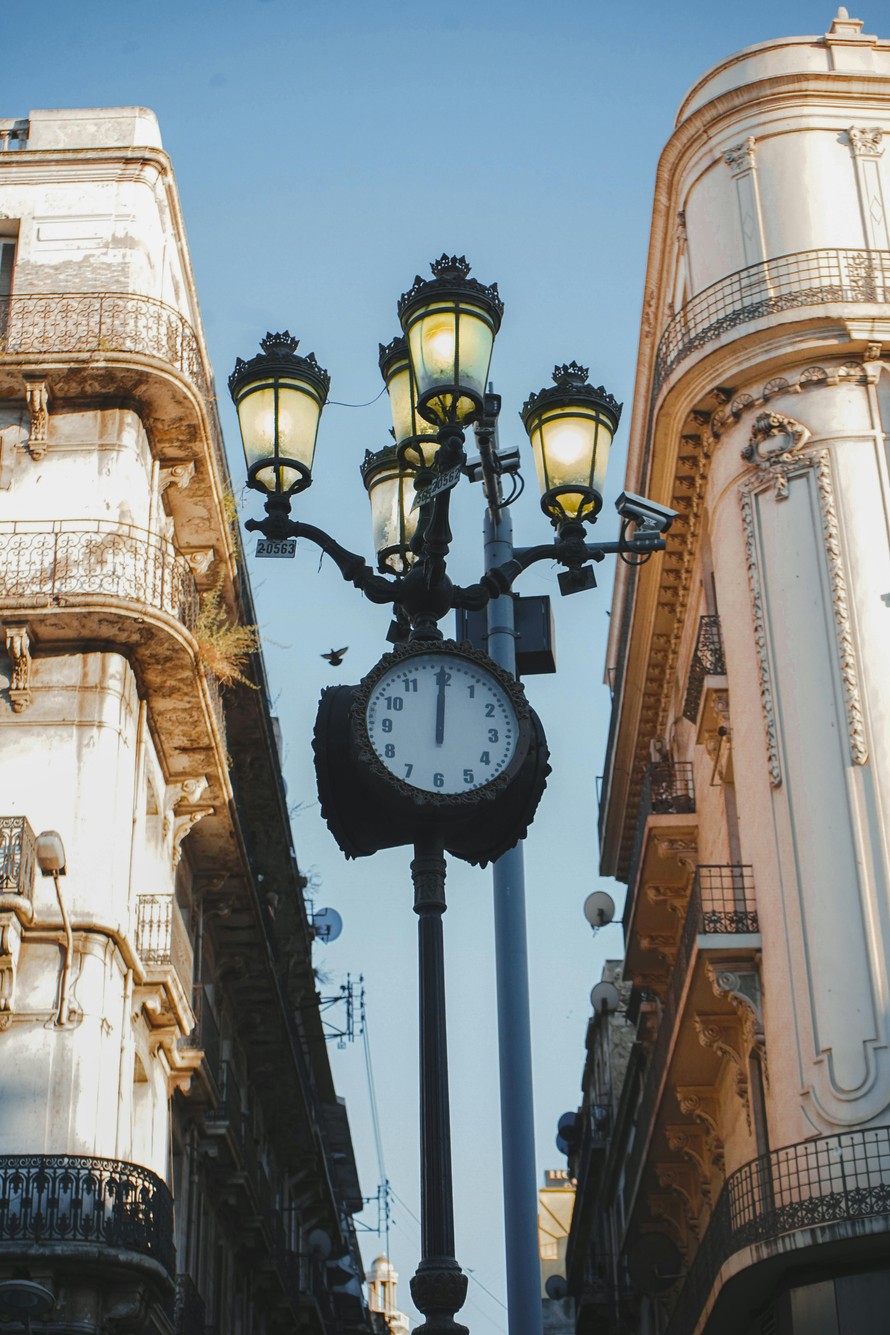camera: (594, 483, 699, 556), (458, 432, 530, 501)
